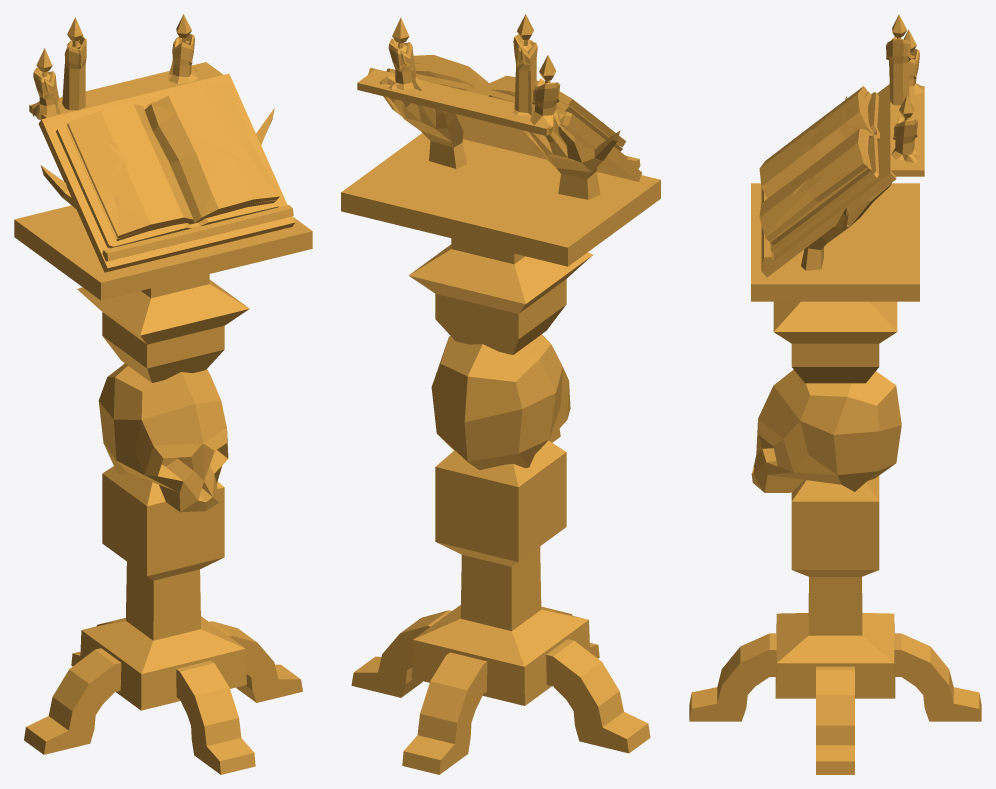
File: book-stand-halloween.fbx
The picture shows the model from 3 angles, left to right: view 1: azimuth 30°, elevation 25°; view 2: azimuth 150°, elevation 25°; view 3: azimuth 270°, elevation 25°; orthographic projection. The views are drawn at different scales.
Parts seen in each view (by area): view 1: book-stand-halloween; view 2: book-stand-halloween; view 3: book-stand-halloween.
Boxes of the visible parts, x1=… form: book-stand-halloween: x1=14, y1=14, x2=312, y2=774; book-stand-halloween: x1=341, y1=14, x2=660, y2=774; book-stand-halloween: x1=689, y1=14, x2=981, y2=774.
Bounding box in the file's own units: 0.5144 × 1.31 × 0.5144.
